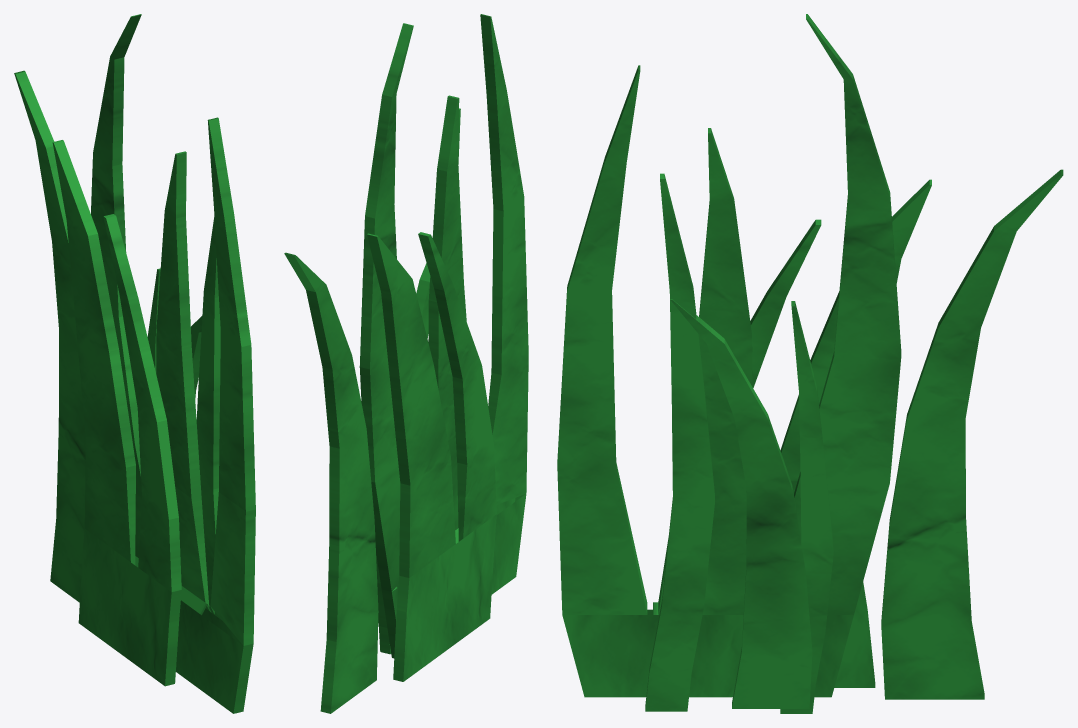
File: herbe3.fbx
3 renders of one model, left to right at view 1: azimuth 30°, elevation 25°; view 2: azimuth 150°, elevation 25°; view 3: azimuth 270°, elevation 25°, orthographic. The views are drawn at different scales.
Visible parts, largest first — view 1: Plane.003; view 2: Plane.003; view 3: Plane.003.
Part boxes in pixels (x1,y1,x2,y2): Plane.003: (14,14,255,713); Plane.003: (284,14,528,713); Plane.003: (557,14,1063,713).
Size of the model in its own units: 26.33 by 298 by 200.
